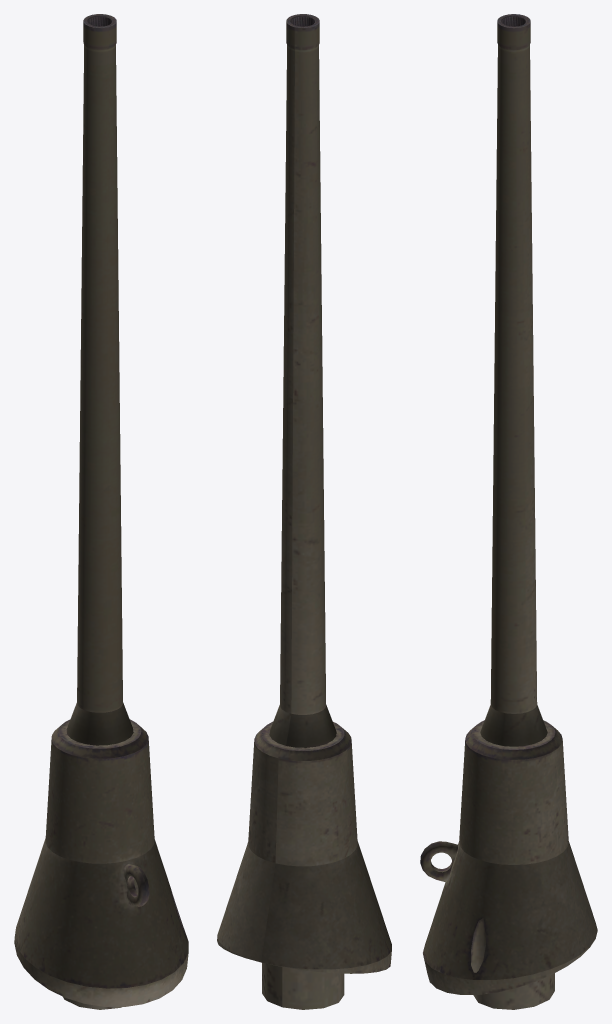
The model's file is Gun_01.glb.
3 views of the same model, side by side, from view 1: azimuth 30°, elevation 25°; view 2: azimuth 150°, elevation 25°; view 3: azimuth 270°, elevation 25° (orthographic).
Visible parts, largest first — view 1: set_0_group_0; view 2: set_0_group_0; view 3: set_0_group_0.
Part boxes in pixels (x1,y1,x2,y2): set_0_group_0: (14,14,188,1009); set_0_group_0: (217,14,391,1009); set_0_group_0: (420,14,597,1009).
Bounding box in the file's own units: 0.637 × 3.92 × 0.6474.
Materials: 1 (1 with a texture image).
